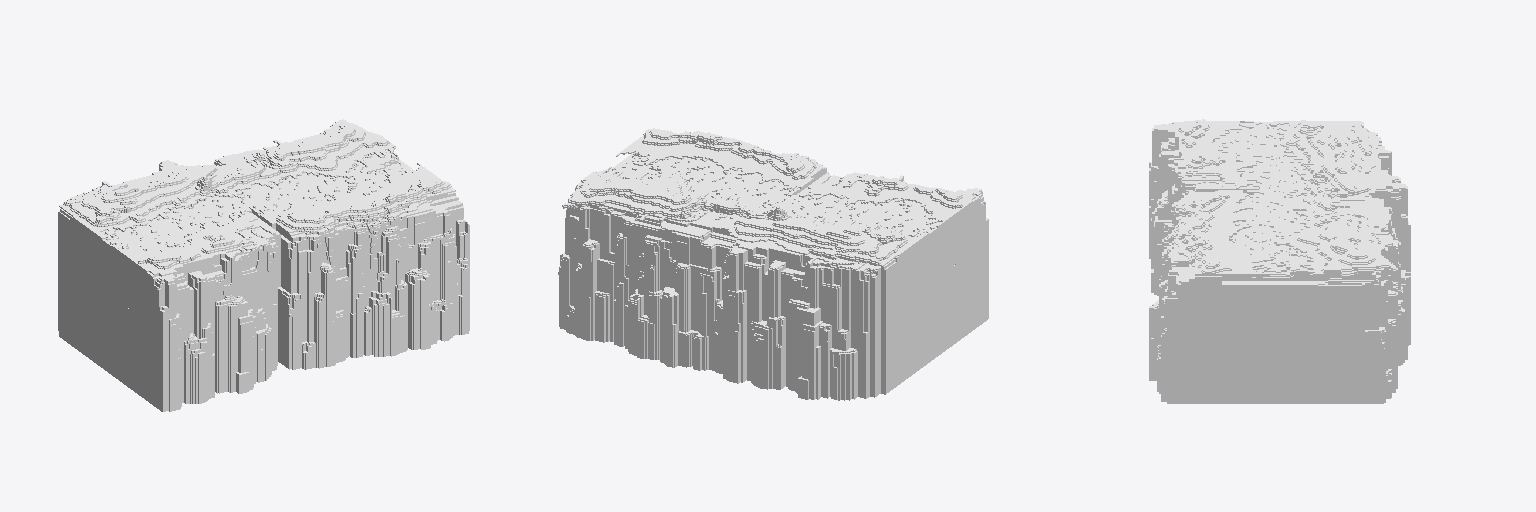
File: Cubeland-22.obj
3 renders of one model, left to right at view 1: azimuth 30°, elevation 25°; view 2: azimuth 150°, elevation 25°; view 3: azimuth 270°, elevation 25°, orthographic.
Visible parts, largest first — view 1: object 1; view 2: object 1; view 3: object 1.
Part boxes in pixels (x1,y1,x2,y2): object 1: (58,119,469,411); object 1: (558,128,988,400); object 1: (1149,119,1410,403).
Bounding box in the file's own units: 25.6 × 11.1 × 18.4.